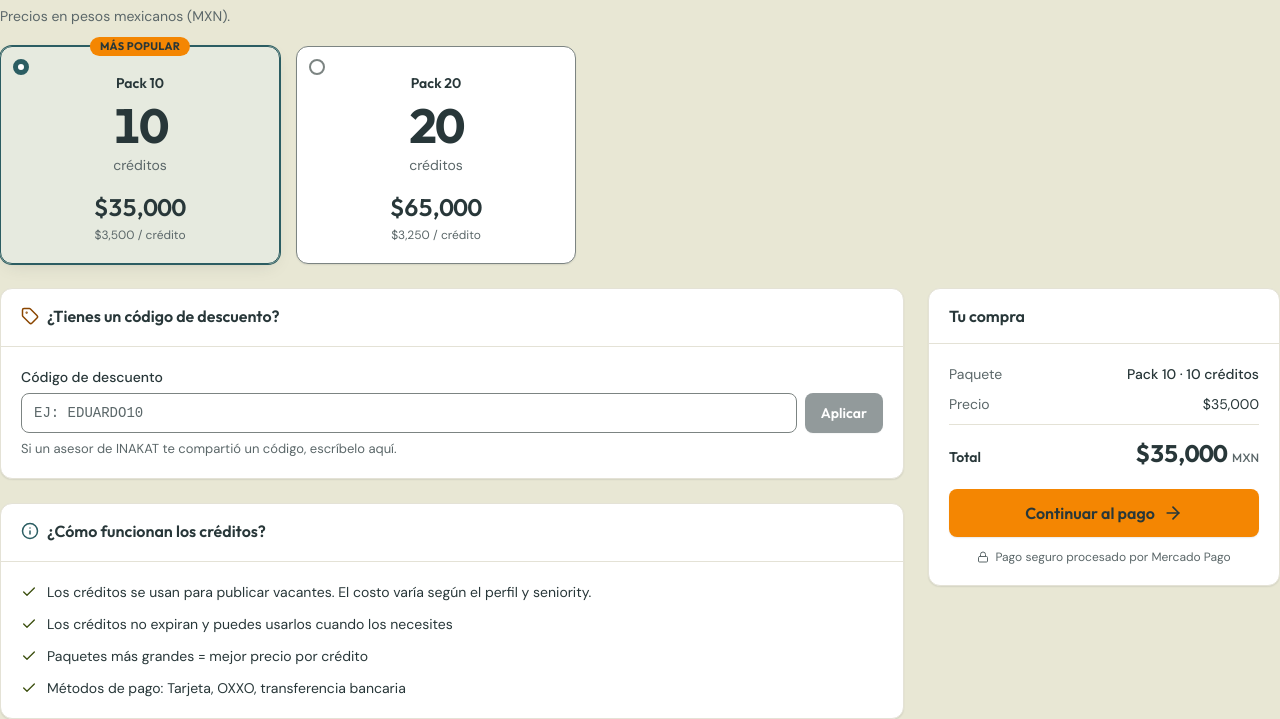
Test: Página de compra de créditos › PAGO-024: mientras el SDK no avisa de que cargó se muestra un aviso y no se monta el formulario
(page scrolled)
Expected: the text "10" is shown, [113, 101, 167, 149]
Step 1. Click the button "Continuar al pago" → (1104, 513), box [949, 489, 1259, 537]
(page scrolled)
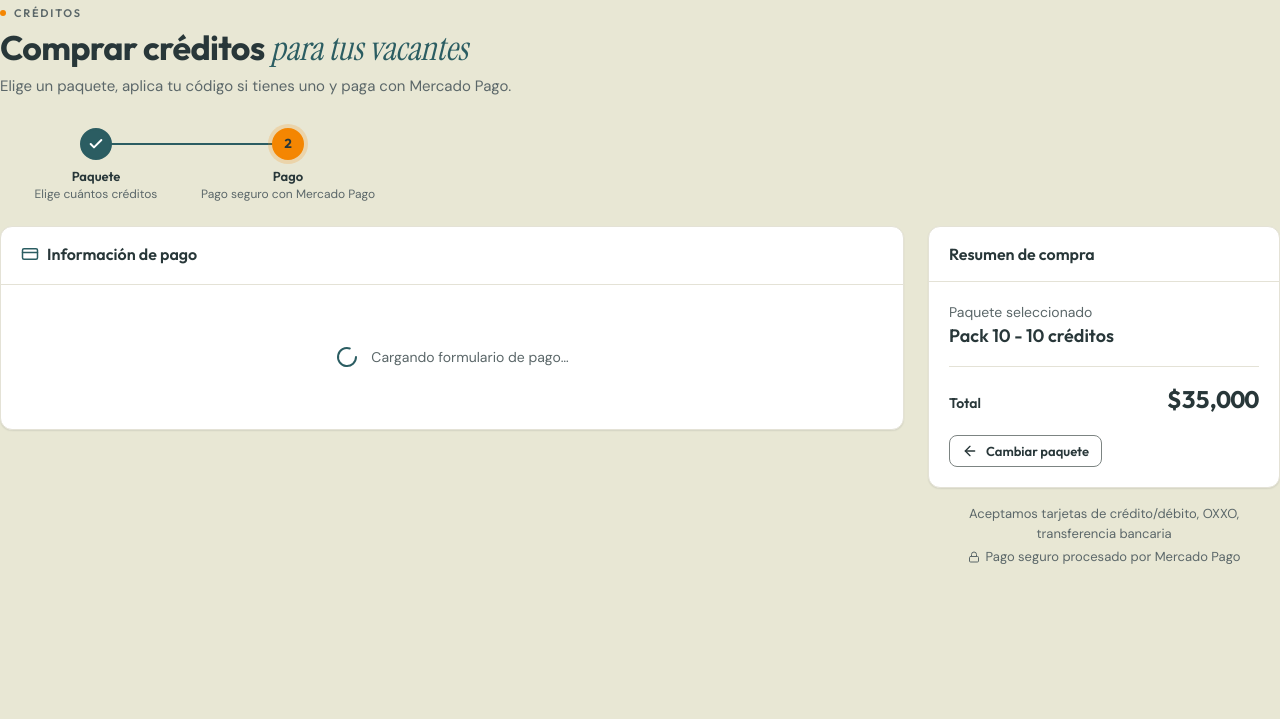
Expected: the text "Información de pago" is shown, [21, 243, 197, 265]
Expected: the text "Cargando formulario de pago…" is shown, [335, 345, 569, 369]
